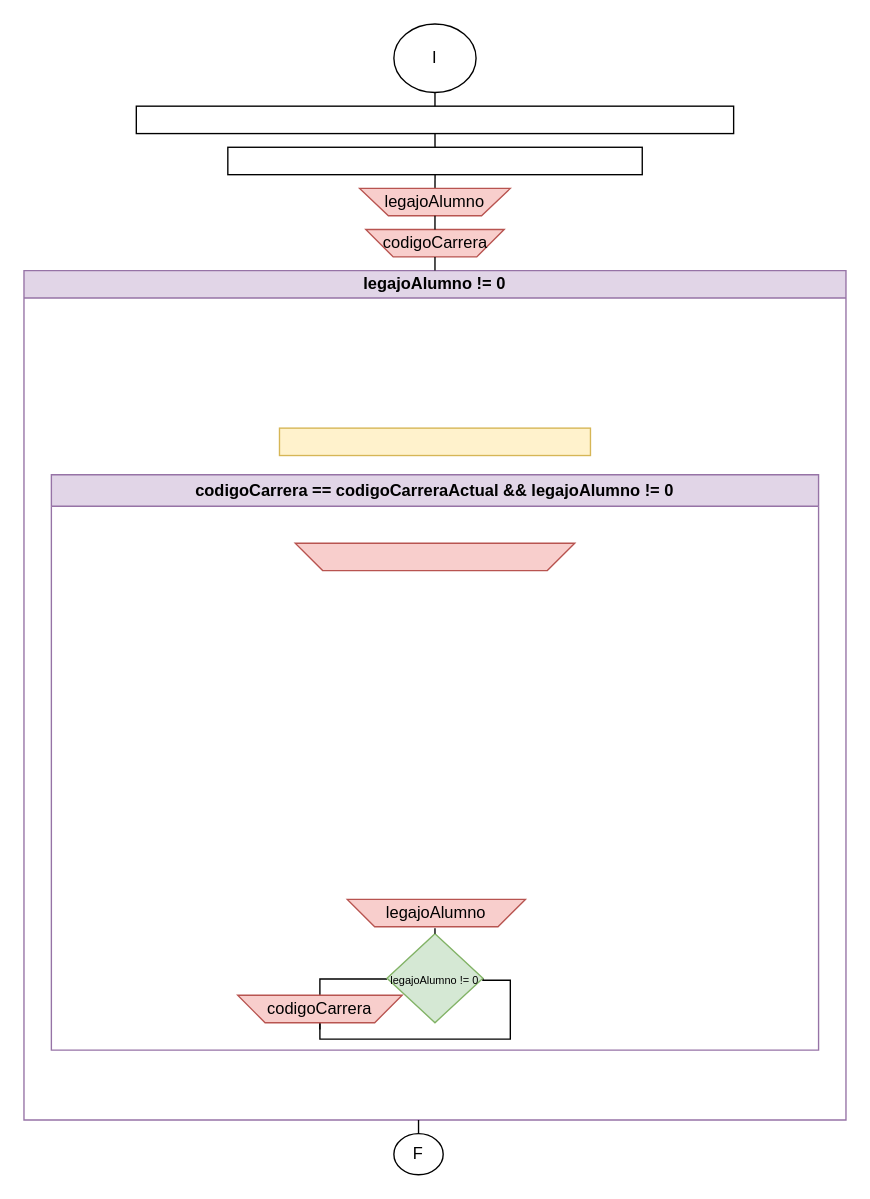
Image size: 870x1199. Some labels were removed from this diagram. Each missing label, with the centre of its shape:
"char modalidad, horario;" goes at point 434,160.
"codigoCarreraActual = codigoCarrera" goes at point 434,441.
"codigoMateria, modalidad,horario" goes at point 434,556.
"int legajoAlumno, codigoCarrera, codigoMateria, codigoCarreraActual;" goes at point 434,119.
